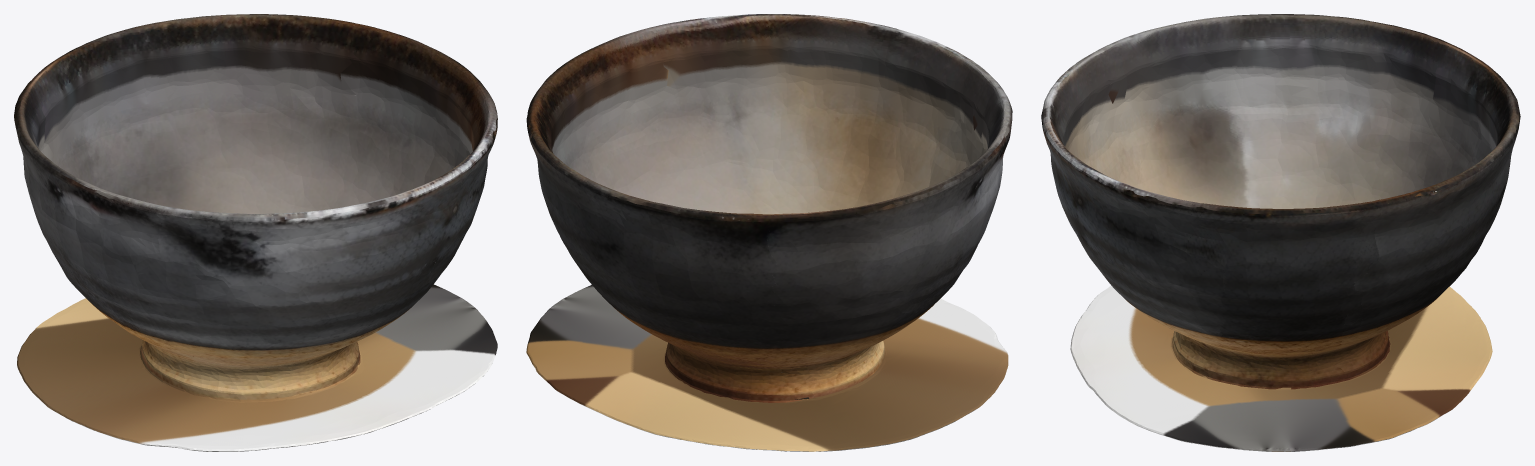
File: traveler_env_coast_hoshi_tea_bowl_00001_.glb
The picture shows the model from 3 angles, left to right: view 1: azimuth 30°, elevation 25°; view 2: azimuth 150°, elevation 25°; view 3: azimuth 270°, elevation 25°; orthographic projection. The views are drawn at different scales.
Visible parts, largest first — view 1: temp_mesh.ply; view 2: temp_mesh.ply; view 3: temp_mesh.ply.
Boxes of the visible parts, x1,y1,x2,y2 form: temp_mesh.ply: [14, 14, 497, 451]; temp_mesh.ply: [526, 14, 1012, 451]; temp_mesh.ply: [1041, 14, 1520, 451].
Size of the model in its own units: 1.97 by 1.08 by 1.97.
Materials: 1 (1 with a texture image).
